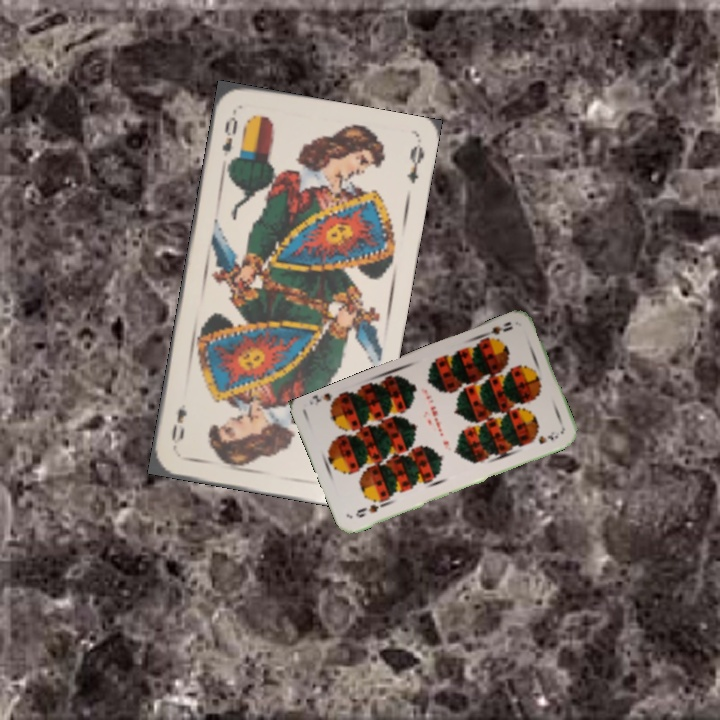EO: (217, 112, 241, 167)
S9: (479, 318, 515, 344), (352, 497, 388, 520)
